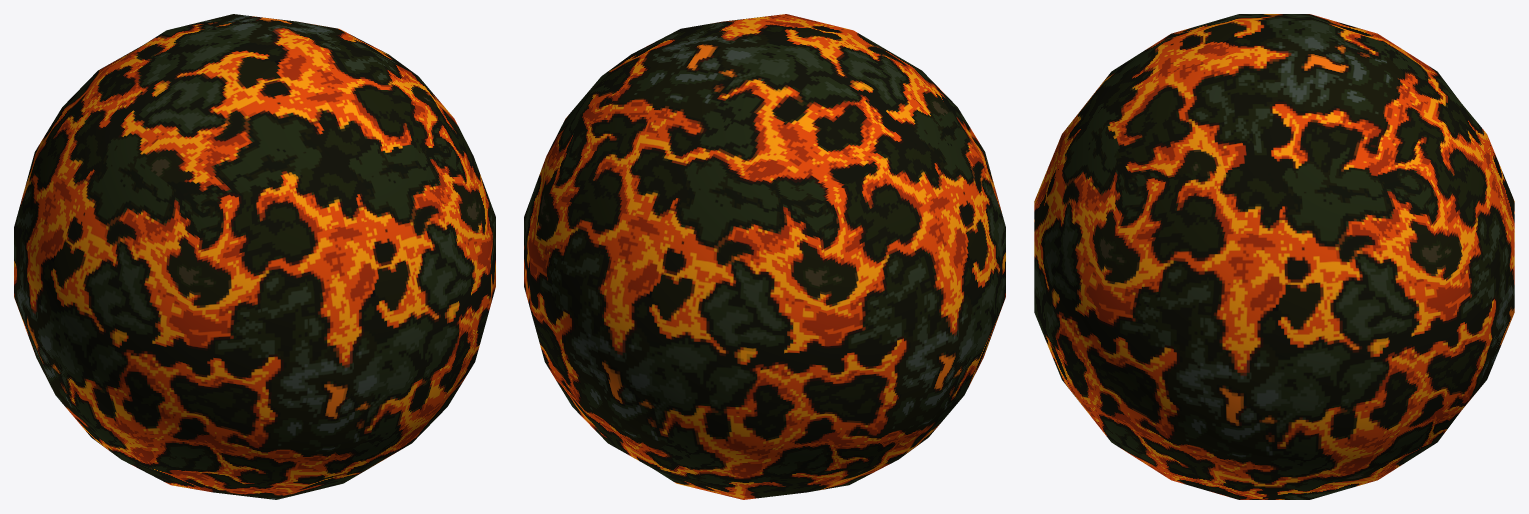
The model's file is lava.glb.
The picture shows the model from 3 angles, left to right: view 1: azimuth 30°, elevation 25°; view 2: azimuth 150°, elevation 25°; view 3: azimuth 270°, elevation 25°; orthographic projection.
Parts seen in each view (by area): view 1: Asset3DLoader.sceneRoot; view 2: Asset3DLoader.sceneRoot; view 3: Asset3DLoader.sceneRoot.
Part boxes in pixels (left/top/right/bottom): Asset3DLoader.sceneRoot: left=14, top=14, right=495, bottom=499; Asset3DLoader.sceneRoot: left=524, top=14, right=1005, bottom=499; Asset3DLoader.sceneRoot: left=1034, top=14, right=1514, bottom=499.
Bounding box in the file's own units: 3.36 × 3.36 × 3.36.
1 material, 1 textured.
